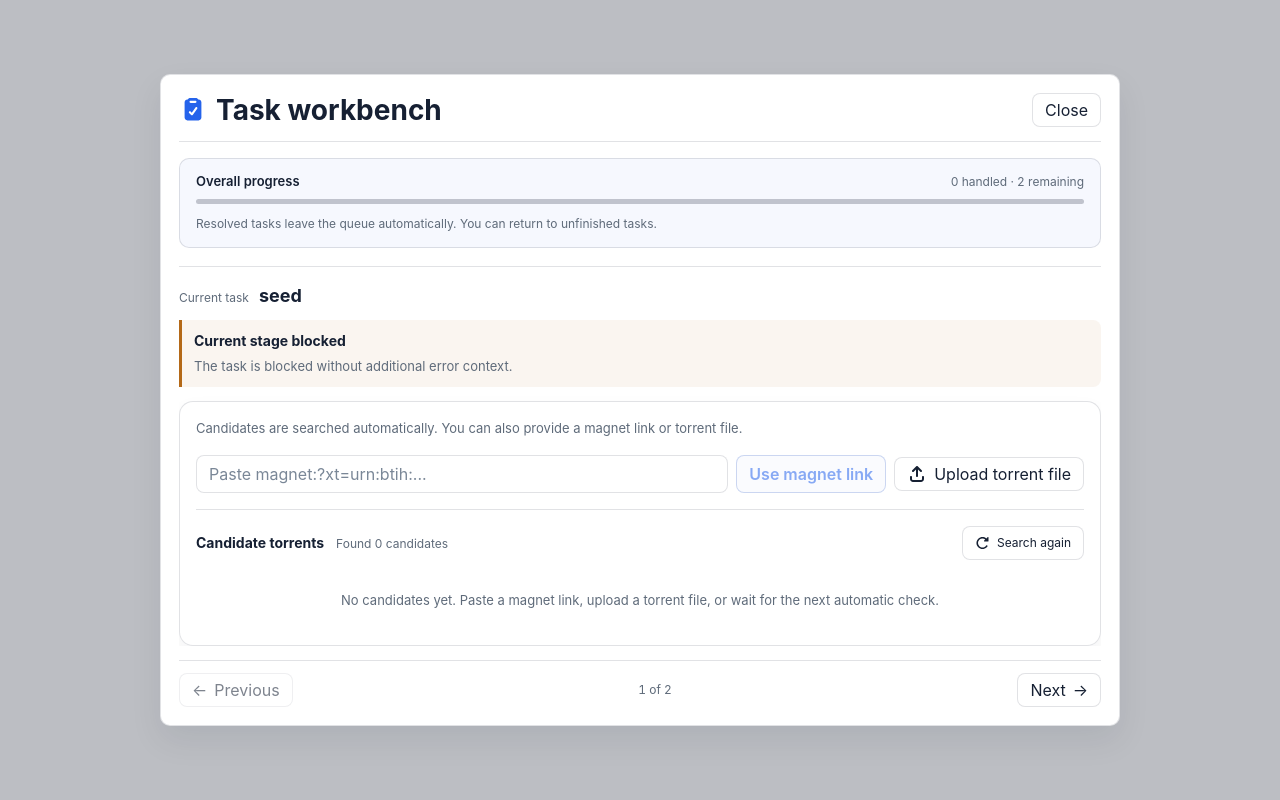
Test: processing queue › keeps magnet drafts when switching and resolves seeds inside the same panel
The width and height of the screenshot is (1280, 800).
Type "magnet:?xt=urn:btih:test" into the field named "Magnet link" at (462, 474), box [196, 455, 728, 493]
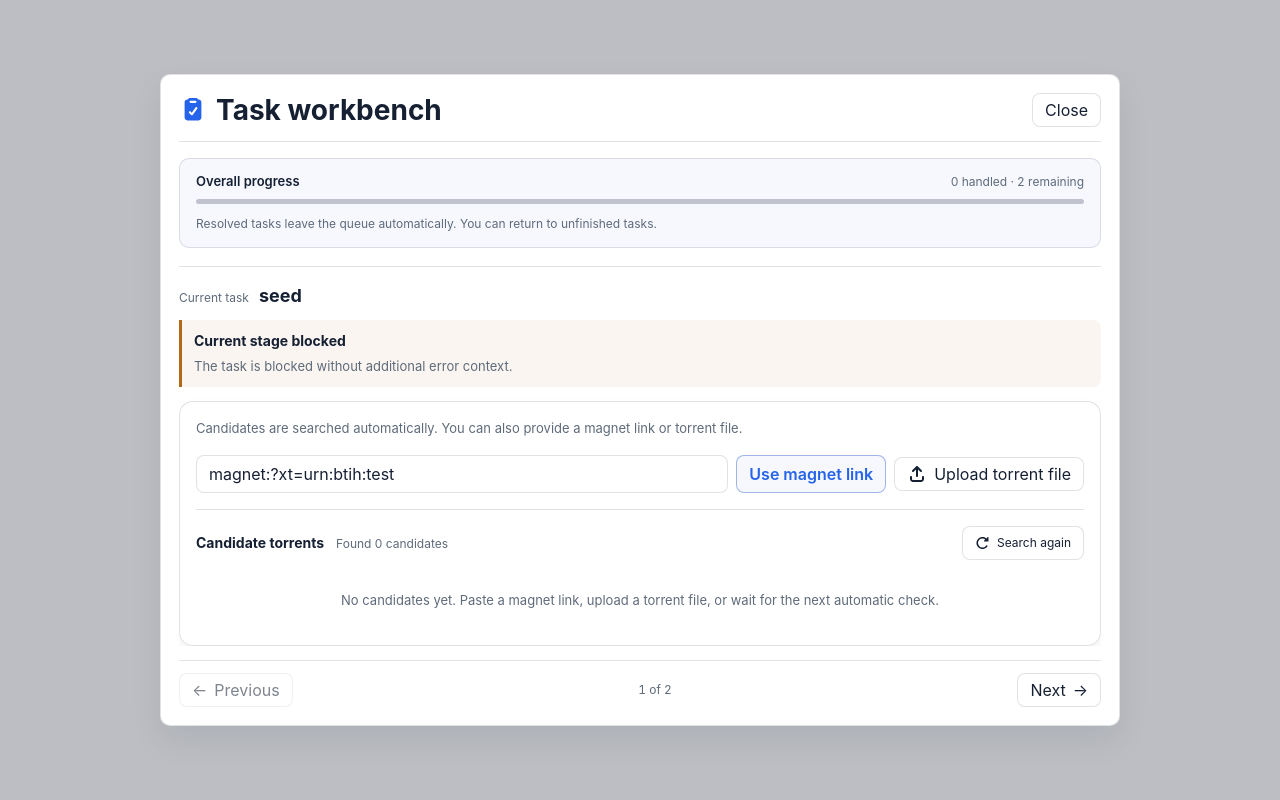
Click the button "Next →" at (1059, 690), box [1017, 673, 1101, 707]
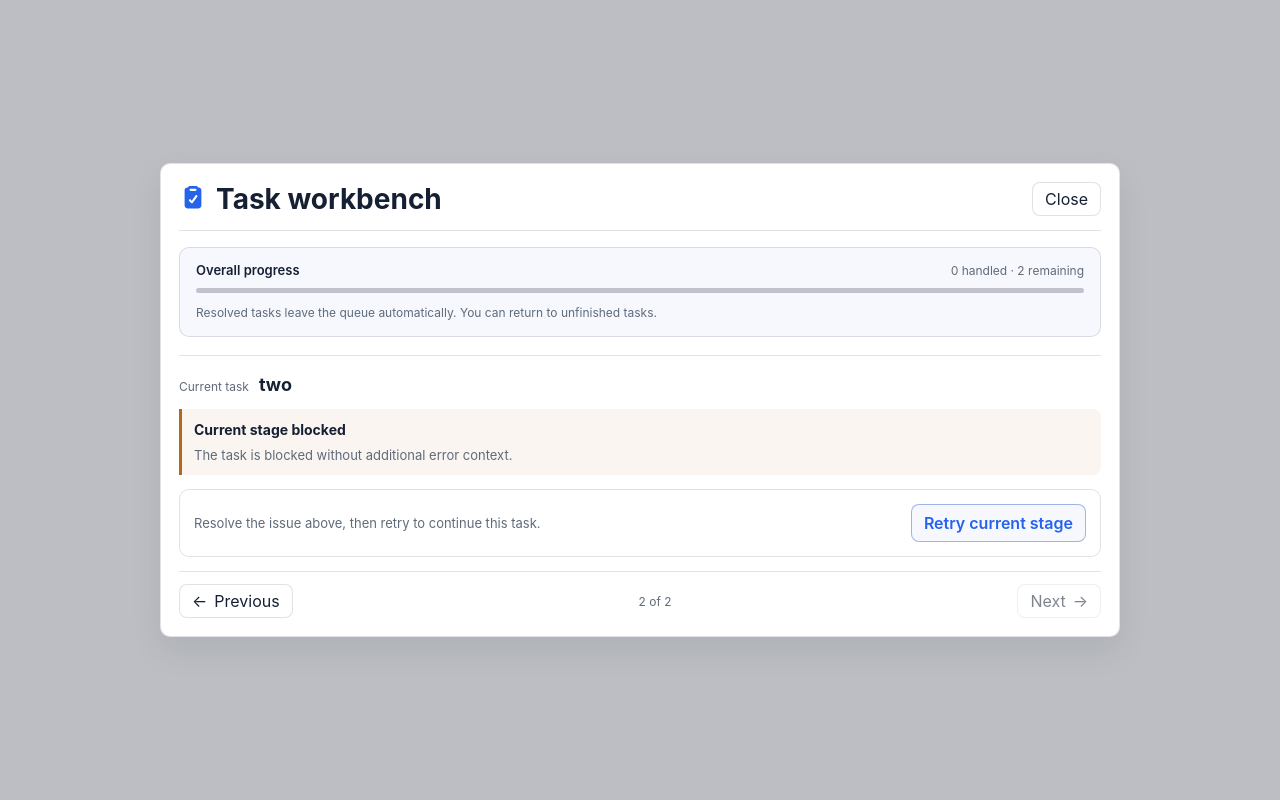
Click the button "← Previous" at (236, 602), box [179, 584, 293, 618]
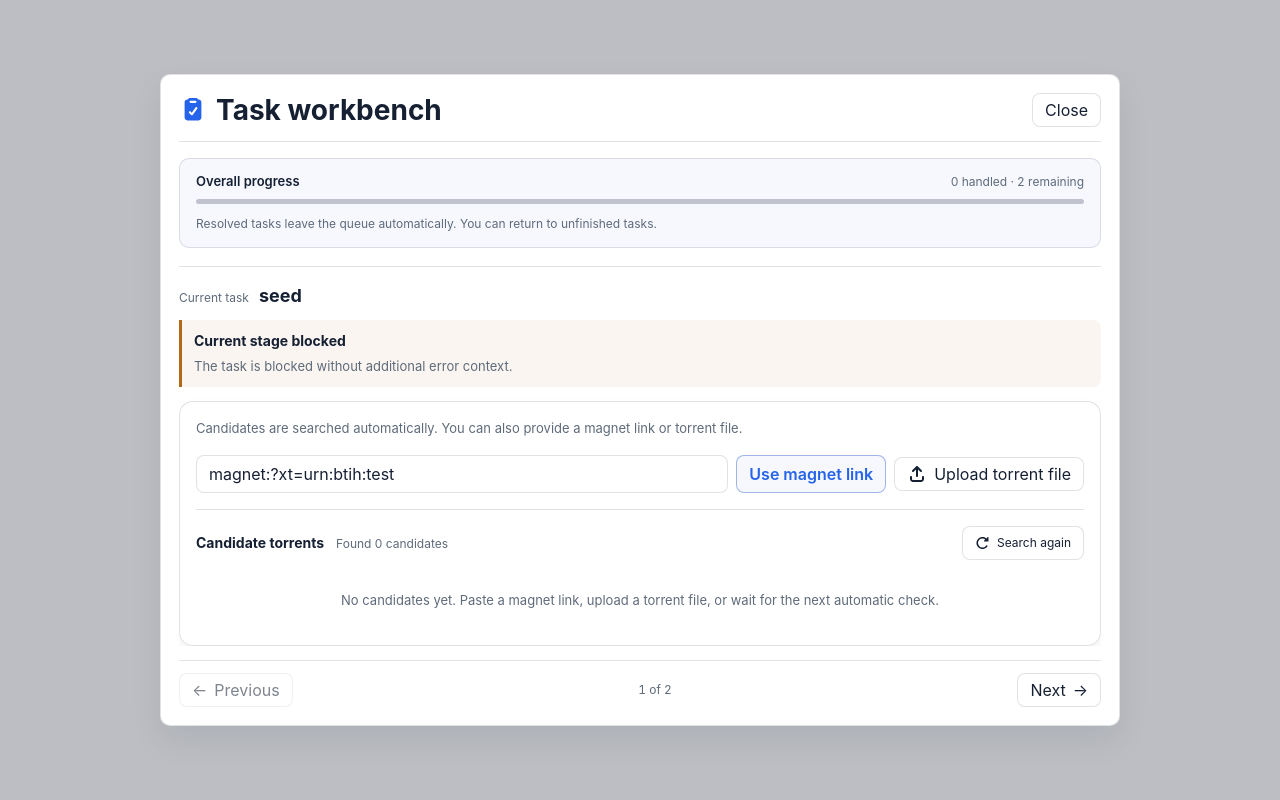
Expected: the field named "Magnet link" holds "magnet:?xt=urn:btih:test", [196, 455, 728, 493]
Click the button "Use magnet link" at (811, 474), box [736, 455, 886, 493]
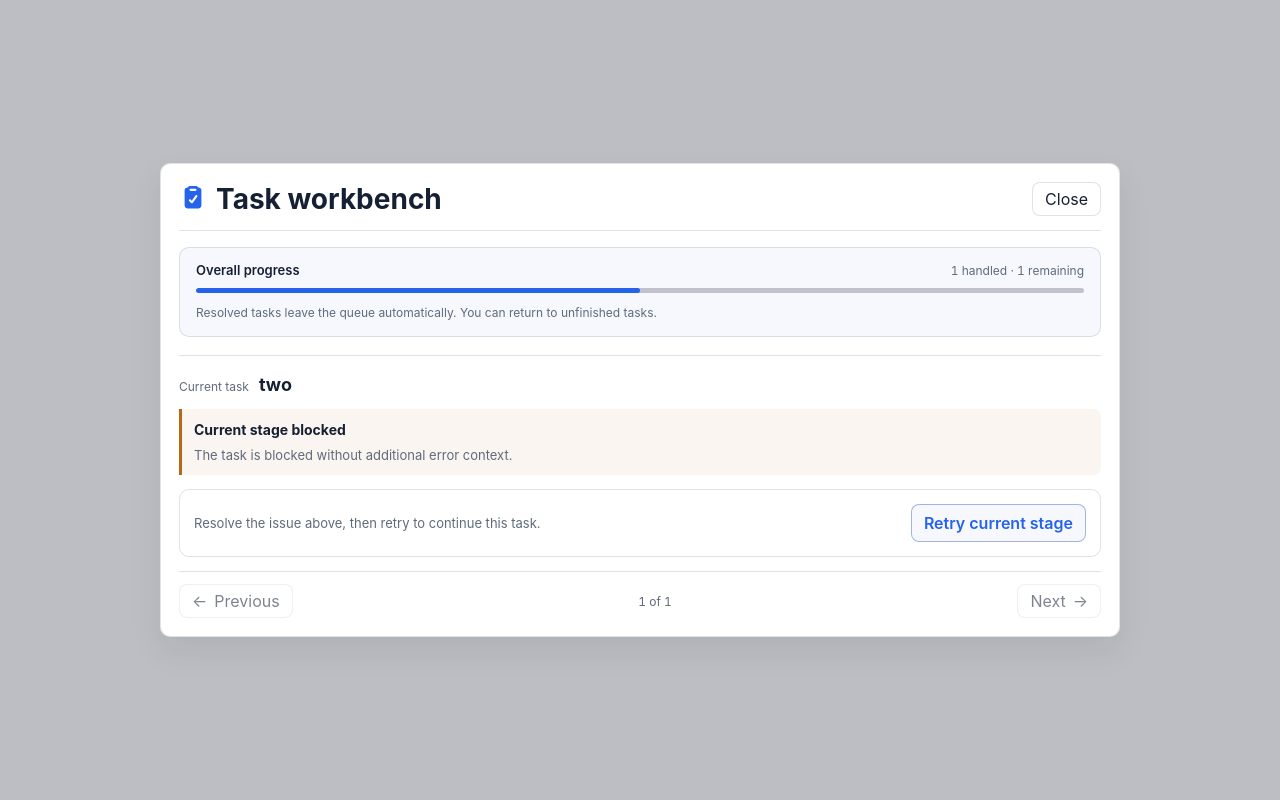
Expected: the number of dialogs is 1, [160, 162, 1120, 638]
Expected: the heading "two" is shown, [259, 374, 292, 395]
